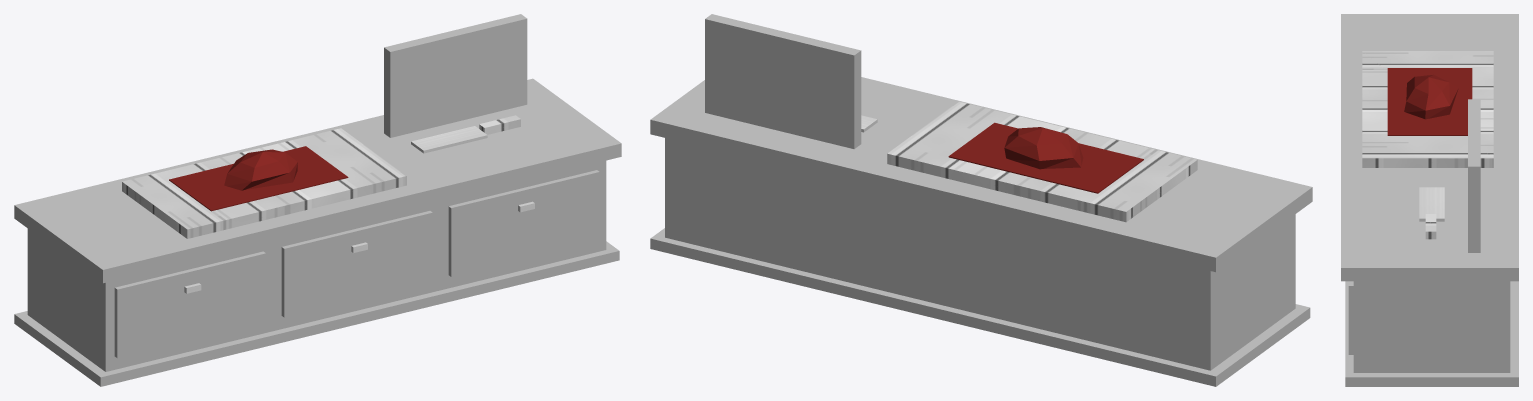
File: bench_butcher.obj
The picture shows the model from 3 angles, left to right: view 1: azimuth 30°, elevation 25°; view 2: azimuth 150°, elevation 25°; view 3: azimuth 270°, elevation 25°; orthographic projection. The views are drawn at different scales.
Visible parts, largest first — view 1: bench_butcher; view 2: bench_butcher; view 3: bench_butcher.
Boxes of the visible parts, bbox=[...] form: bench_butcher: bbox=[14, 14, 621, 386]; bench_butcher: bbox=[650, 14, 1312, 386]; bench_butcher: bbox=[1341, 14, 1518, 386].
Bounding box in the file's own units: 2.84 × 1.07 × 0.84.
